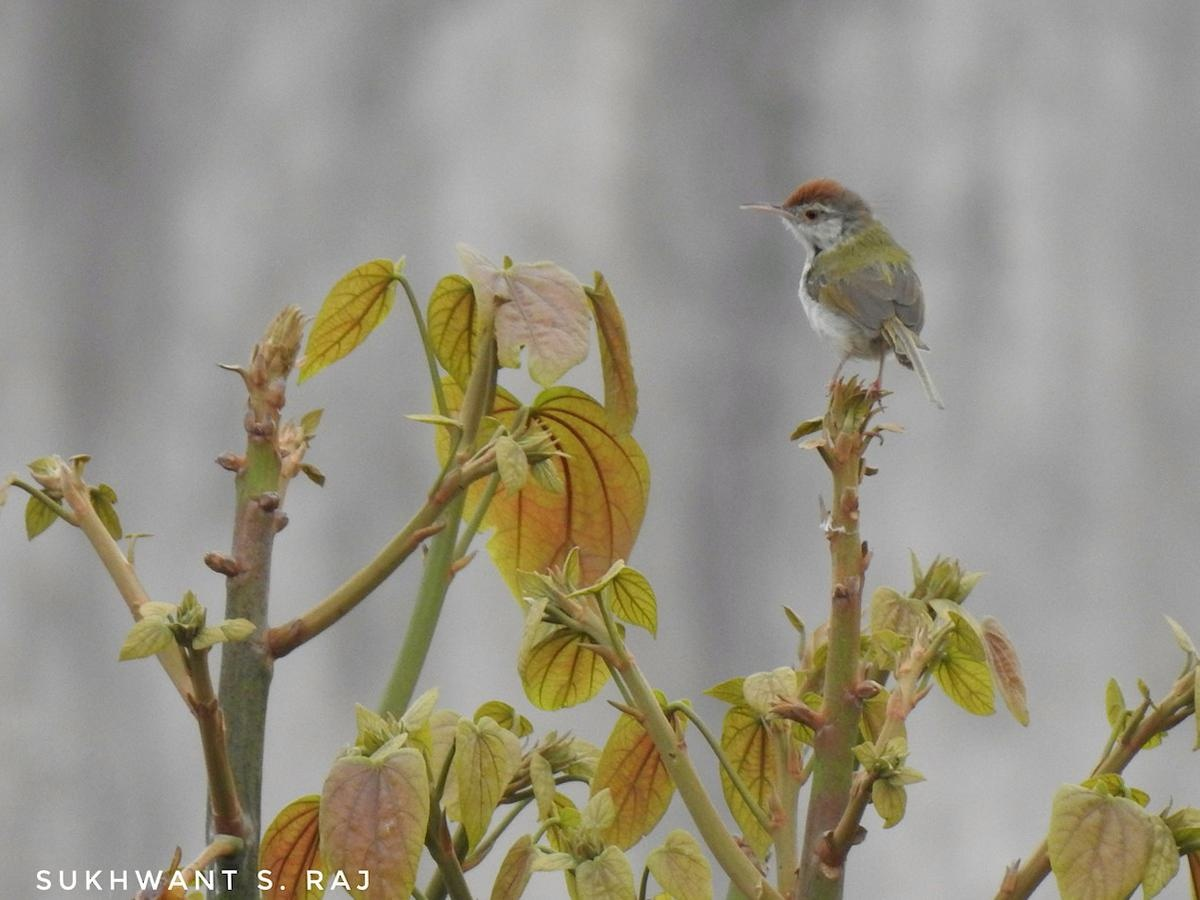tailorbird: (758, 158, 956, 403)
